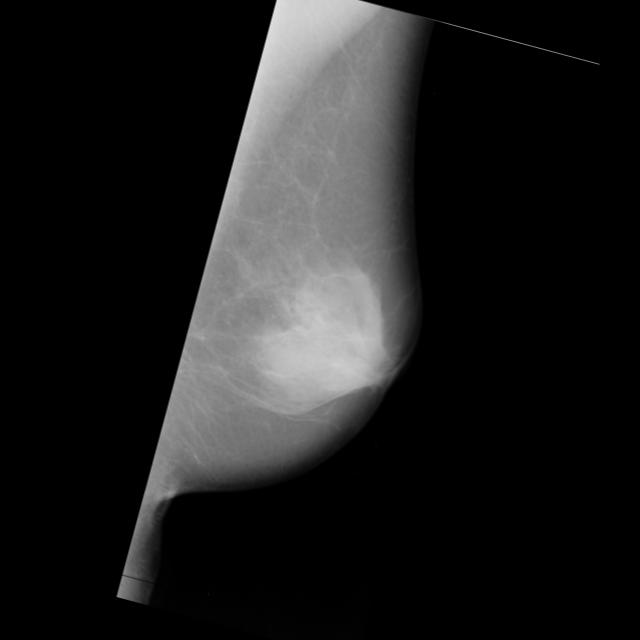ARCH: (320, 14, 640, 428)
